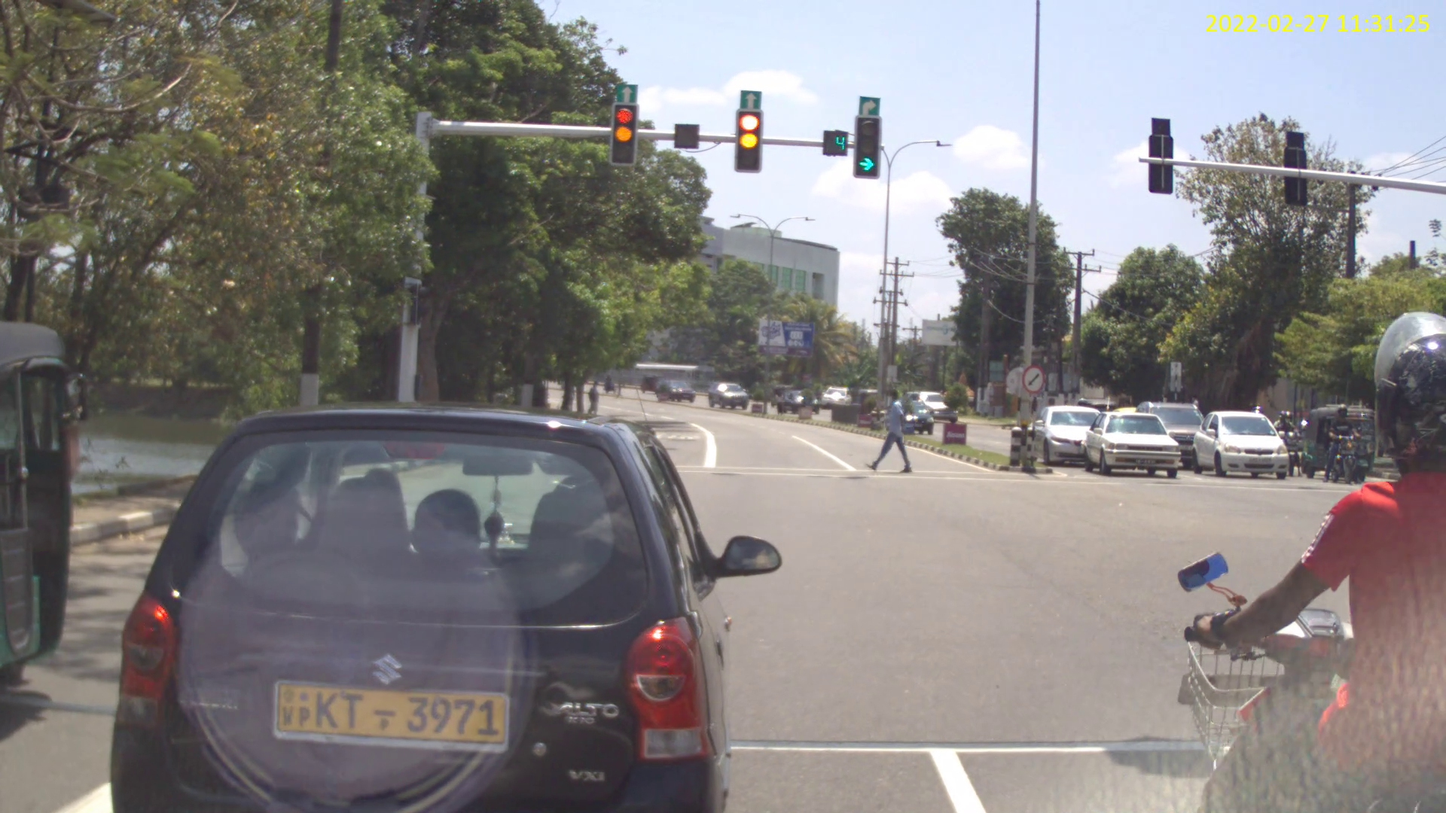Count-down: (823, 129, 847, 156)
Empty-count-down: (674, 123, 699, 149)
Green-right: (853, 115, 881, 179)
Red-Yellow: (609, 102, 639, 165), (734, 108, 762, 172)
